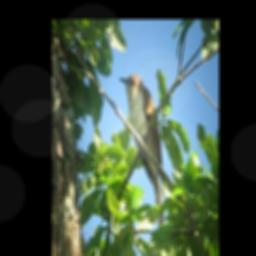Cuckoo: (117, 72, 167, 234)
